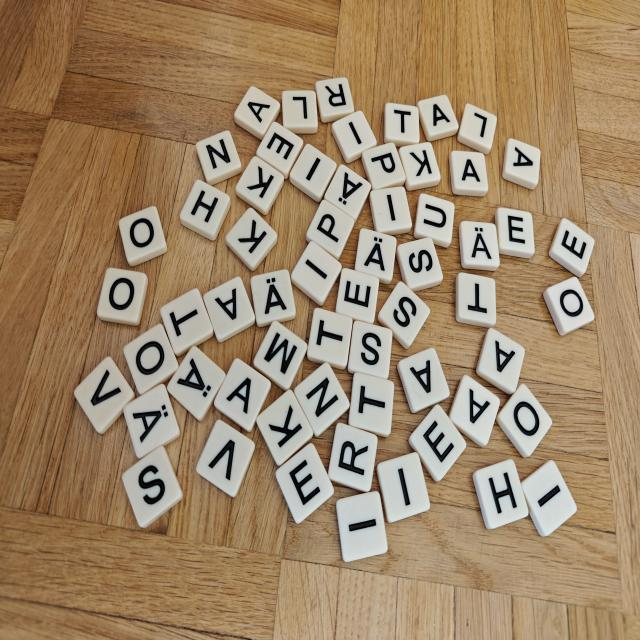a: (214, 358, 271, 431), (449, 375, 500, 446), (203, 276, 255, 342), (398, 348, 450, 413), (476, 328, 525, 394), (234, 86, 280, 140), (417, 95, 458, 142), (502, 139, 540, 189), (449, 151, 488, 196)
a_dot: (168, 346, 225, 421), (124, 384, 180, 458), (251, 269, 296, 327), (324, 165, 371, 220), (354, 228, 397, 284), (459, 221, 500, 271)
e: (276, 443, 334, 523), (409, 405, 466, 481), (257, 122, 303, 179), (549, 218, 594, 276), (336, 269, 379, 323), (495, 207, 535, 258)
h: (472, 460, 528, 529), (180, 180, 230, 240)
i: (522, 460, 577, 536), (377, 452, 430, 522), (336, 491, 388, 561), (291, 241, 342, 305), (289, 144, 337, 202), (332, 111, 377, 162), (370, 186, 411, 235)
k: (257, 390, 313, 466), (226, 208, 277, 271), (236, 157, 284, 215), (399, 142, 440, 190)
l: (458, 104, 497, 155), (282, 90, 318, 134)
m: (253, 321, 307, 390)
n: (294, 363, 350, 436), (196, 131, 241, 185)
o: (497, 384, 552, 457), (123, 324, 178, 394), (543, 277, 594, 336), (97, 268, 148, 325), (119, 206, 167, 266)
p: (306, 200, 354, 260), (361, 143, 405, 189)
r: (329, 423, 378, 492), (316, 78, 354, 122)
s: (122, 446, 183, 527), (378, 281, 430, 349), (348, 321, 393, 379), (396, 238, 443, 292)
t: (161, 288, 214, 355), (349, 372, 394, 436), (307, 307, 353, 369), (455, 272, 496, 327), (384, 103, 420, 147)
u: (414, 194, 454, 248)
v: (74, 357, 135, 434), (197, 420, 255, 497)
